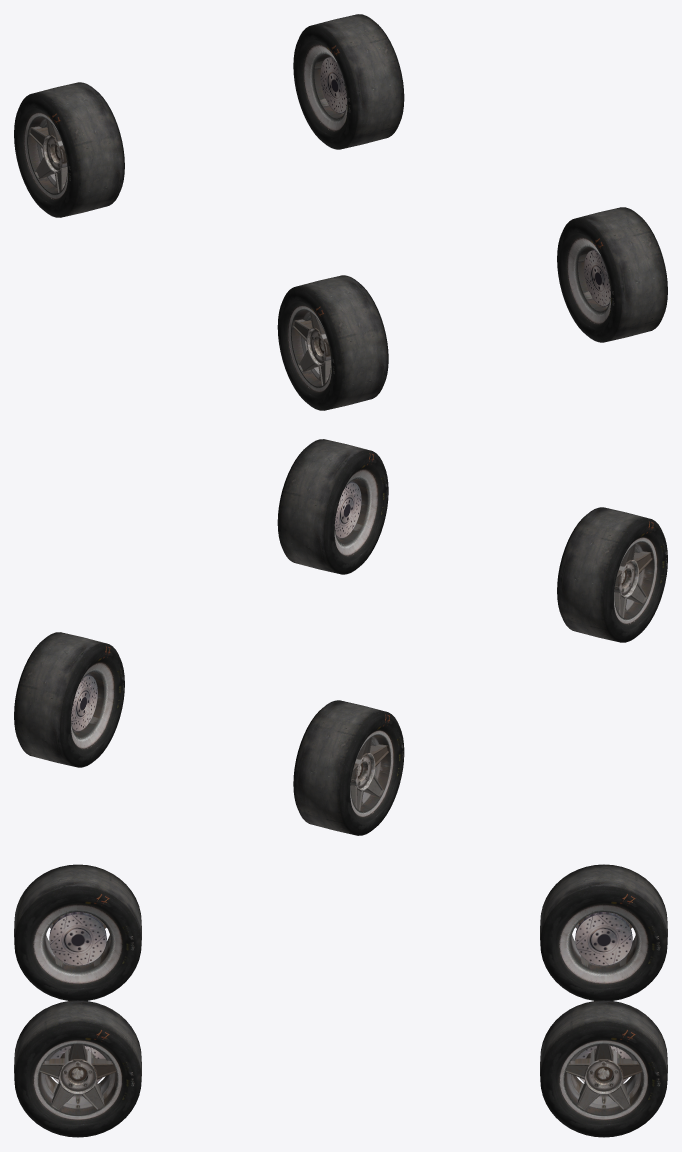
File: Tires.FBX
3 renders of one model, top to bottom at view 1: azimuth 30°, elevation 25°; view 2: azimuth 150°, elevation 25°; view 3: azimuth 270°, elevation 25°, orthographic.
Parts seen in each view (by area): view 1: Chev_LR, Chev_LF, Chev_RR, Chev_RF; view 2: Chev_LF, Chev_RR, Chev_LR, Chev_RF; view 3: Chev_LF, Chev_LR, Chev_RF, Chev_RR.
Part boxes in pixels (x1=…): Chev_LR: x1=293, y1=14, x2=404, y2=149; Chev_LF: x1=557, y1=207, x2=667, y2=342; Chev_RR: x1=14, y1=82, x2=124, y2=217; Chev_RF: x1=277, y1=275, x2=388, y2=410; Chev_LF: x1=277, y1=439, x2=388, y2=574; Chev_RR: x1=293, y1=700, x2=404, y2=835; Chev_LR: x1=14, y1=632, x2=124, y2=767; Chev_RF: x1=557, y1=507, x2=667, y2=642; Chev_LF: x1=14, y1=1000, x2=141, y2=1137; Chev_LR: x1=540, y1=1000, x2=667, y2=1137; Chev_RF: x1=14, y1=864, x2=141, y2=1000; Chev_RR: x1=540, y1=864, x2=667, y2=1000.
Bounding box in the file's own units: 201 × 67 × 342.
